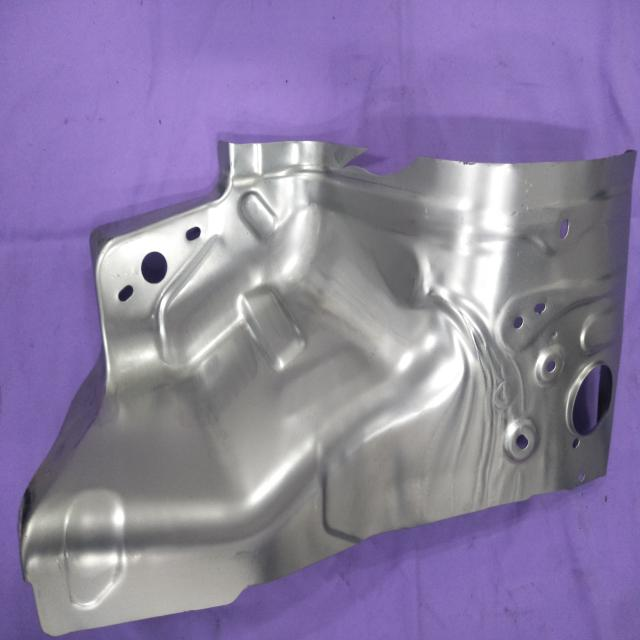Defect: (318, 127, 425, 197)
